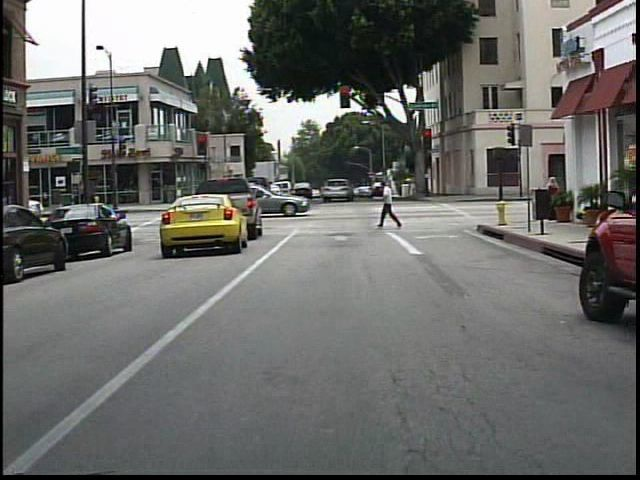person: (379, 179, 405, 231), (541, 173, 566, 225)
